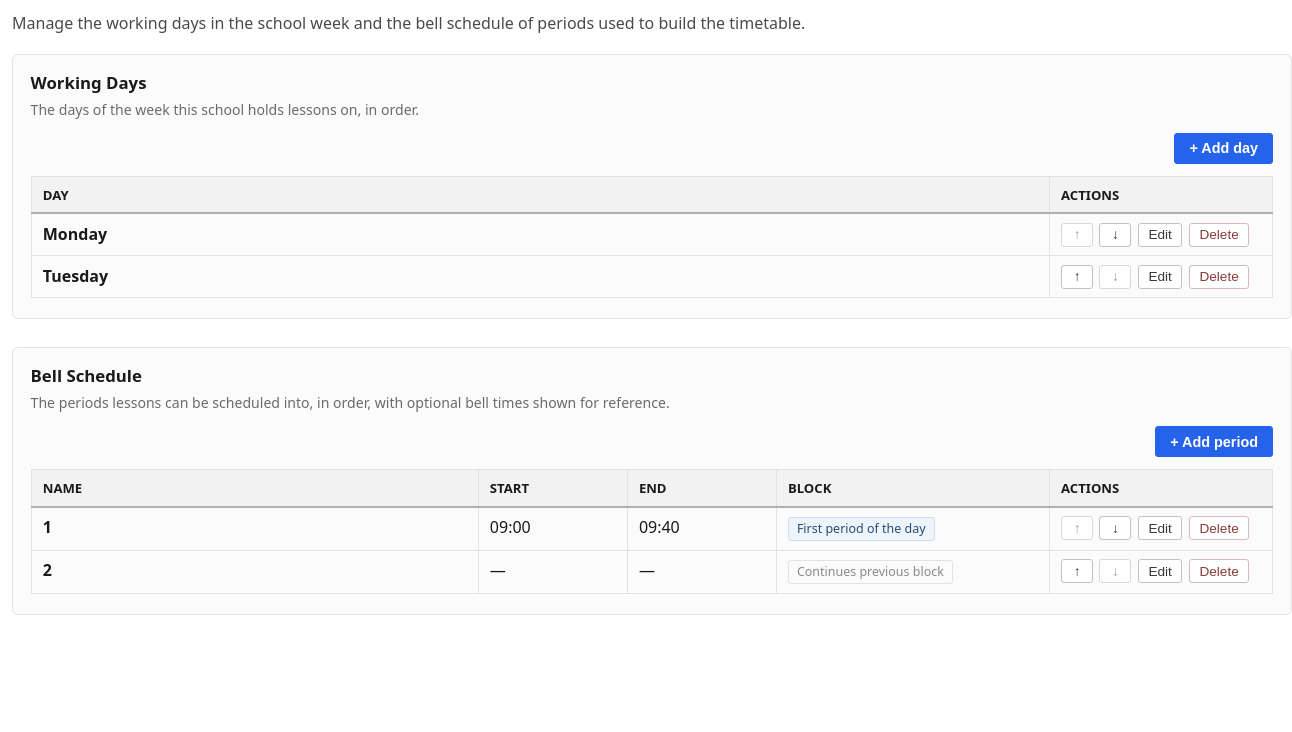
it: CalendarBellSchedulePanel › Working Days › delete confirm/cancel: cancel leaves the day intact
The width and height of the screenshot is (1292, 732).
Check: the column heading "Monday" is shown, box [31,213,1049,256]
Click the button "Delete" in the row of "Monday".
click(1219, 235)  # box [1189,223,1249,247]
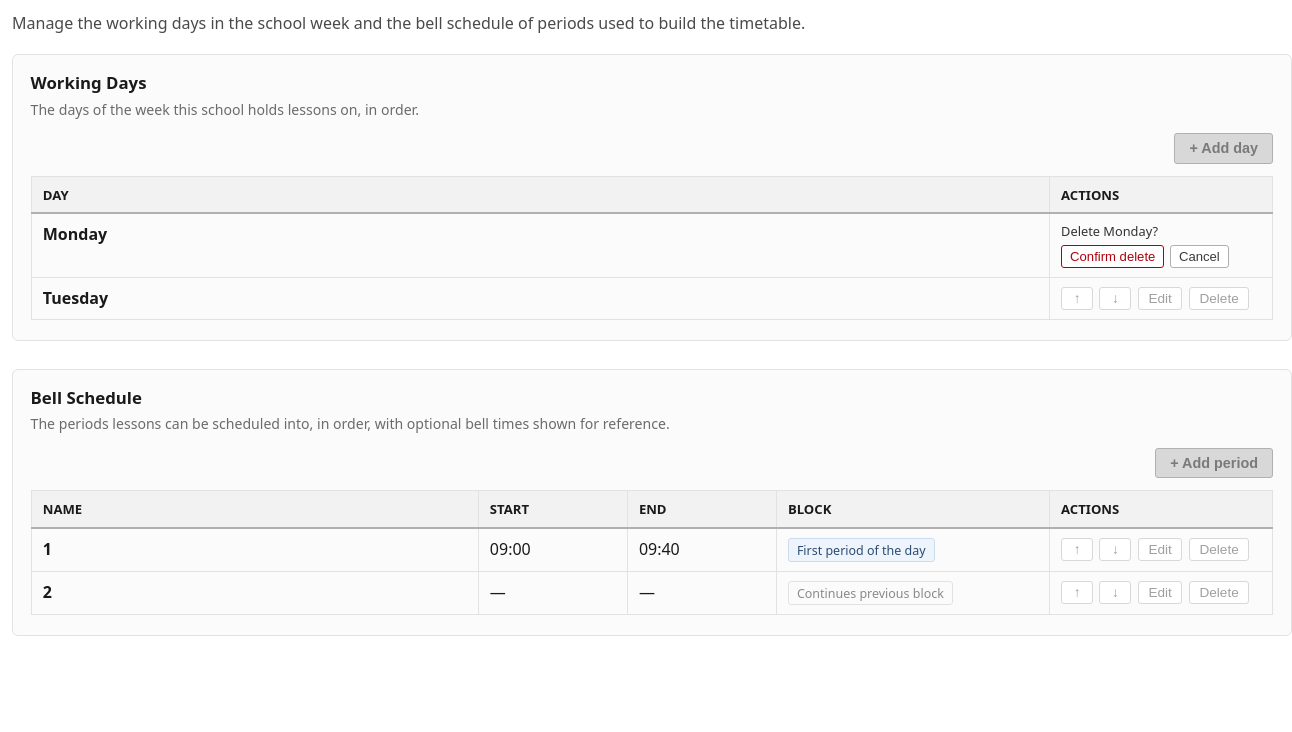
Check: the text "Delete Monday?" is shown, box [1061,222,1158,240]
Click the button "Cancel".
click(1199, 256)  # box [1170,245,1229,268]
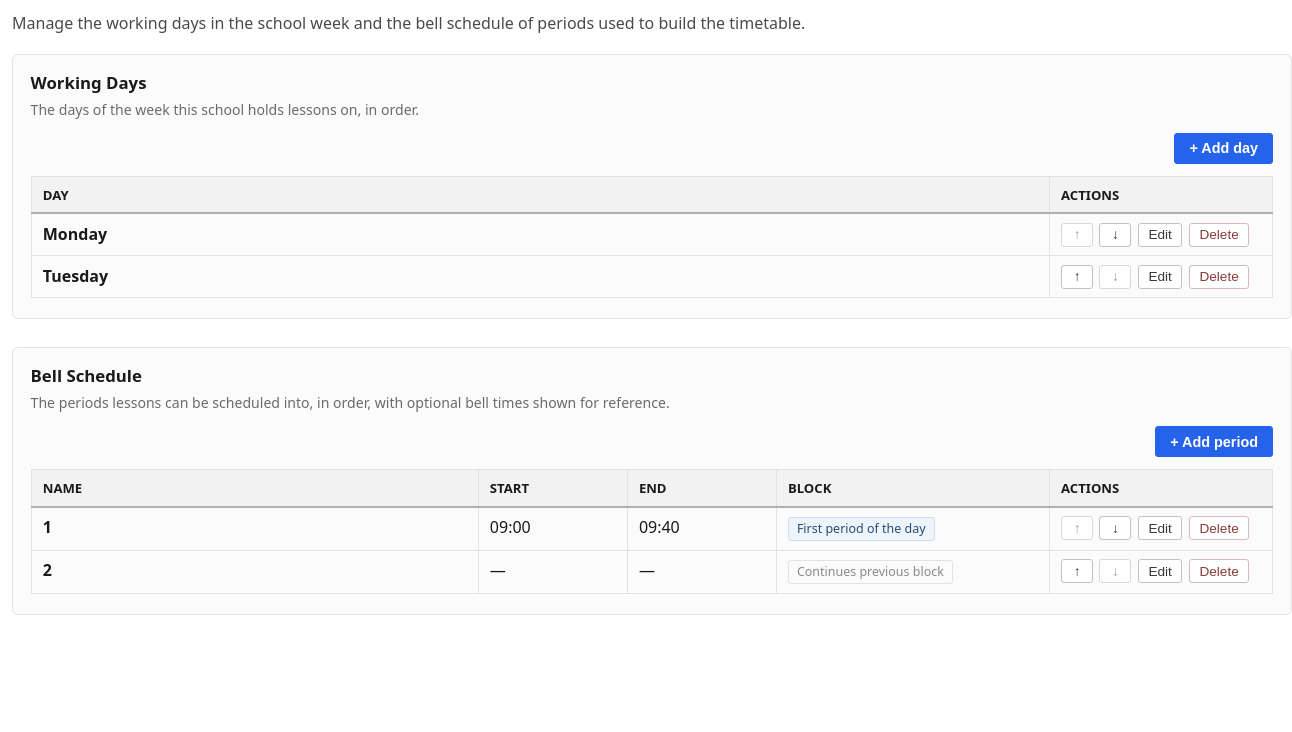
Check: the text "Delete Monday?" is gone
